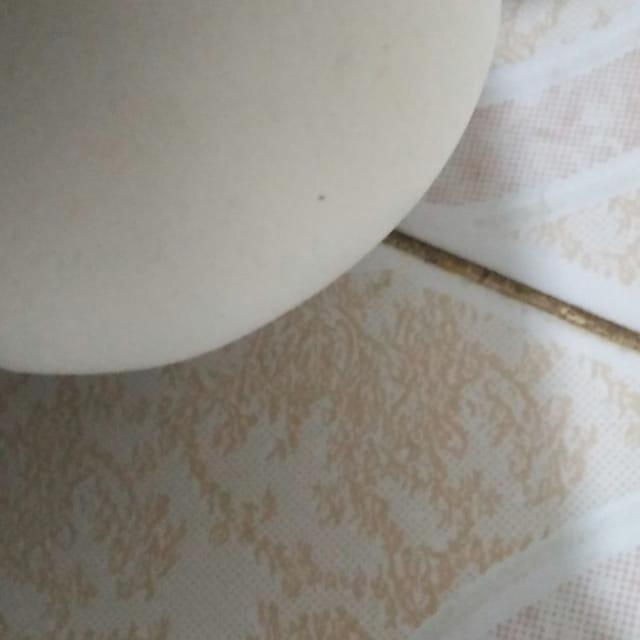egg: (0, 0, 509, 378)
